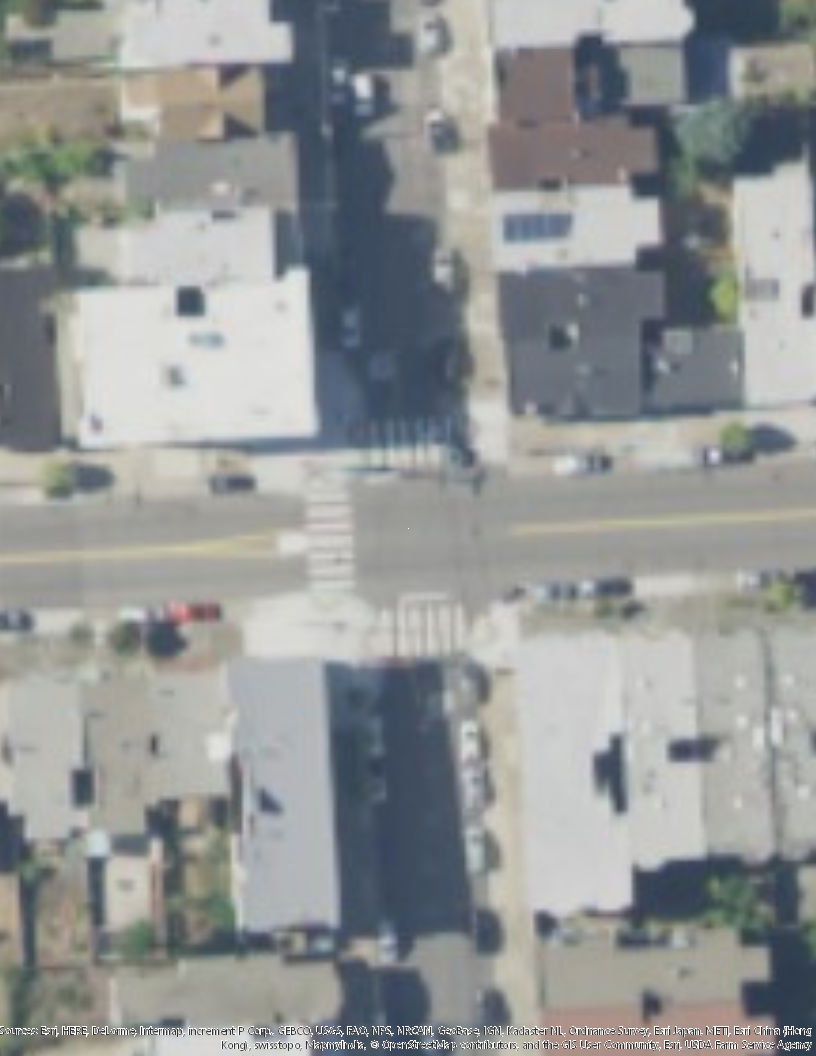zebracross: (304, 481, 353, 594), (381, 608, 472, 655), (359, 420, 453, 465)
